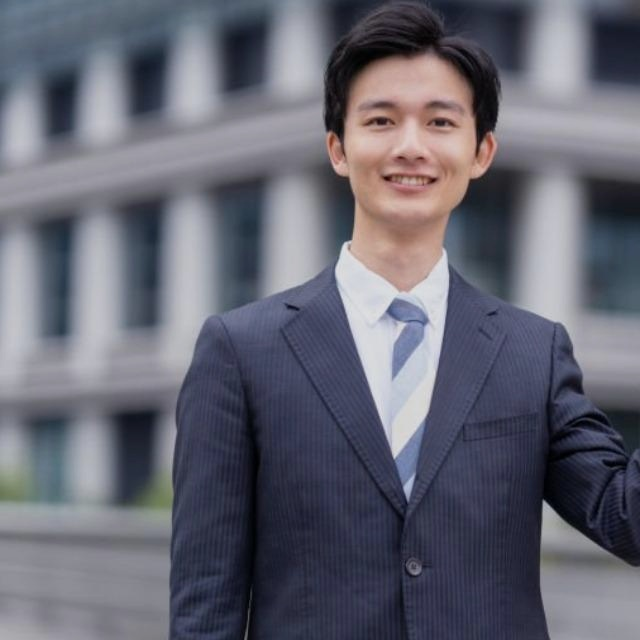Sin_Casco_Mascarrilla: (322, 3, 504, 225)
Sin_Chaleco: (191, 255, 573, 640)
